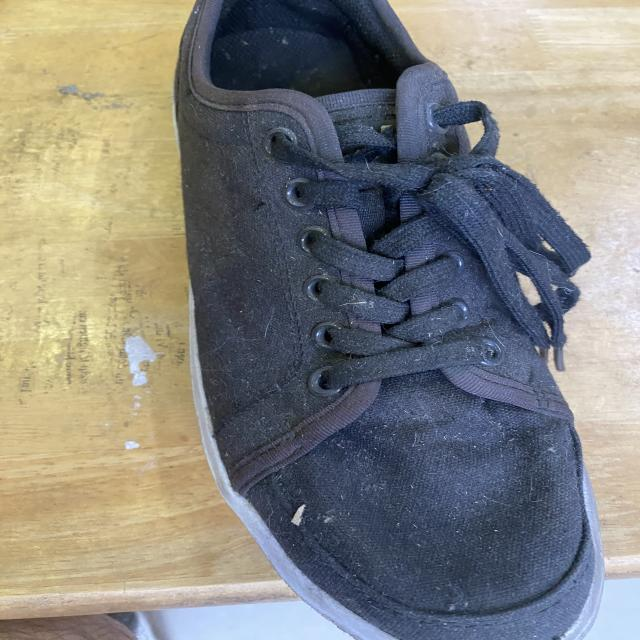broken: (243, 189, 280, 221), (176, 78, 210, 110)
